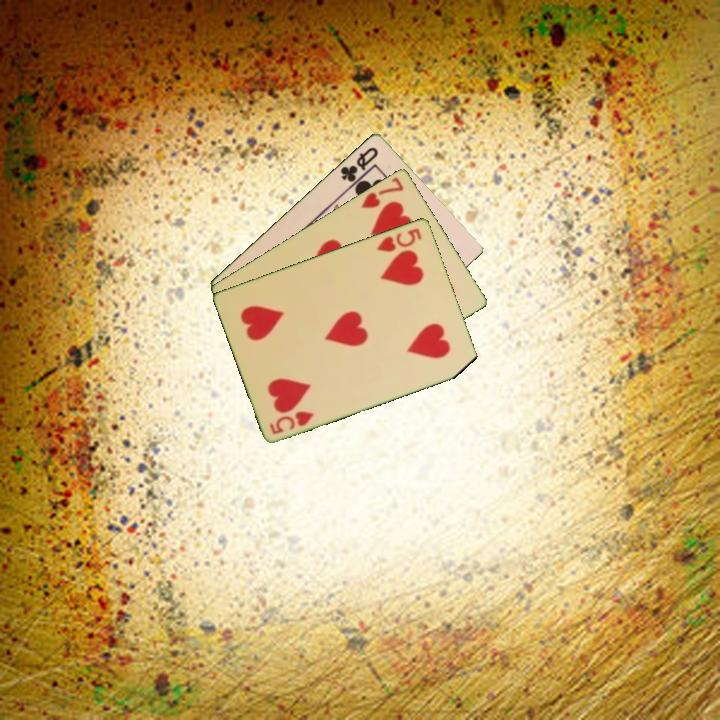5h: (373, 224, 425, 255), (266, 407, 317, 437)
7h: (357, 173, 406, 211)
Qc: (337, 143, 381, 190)
